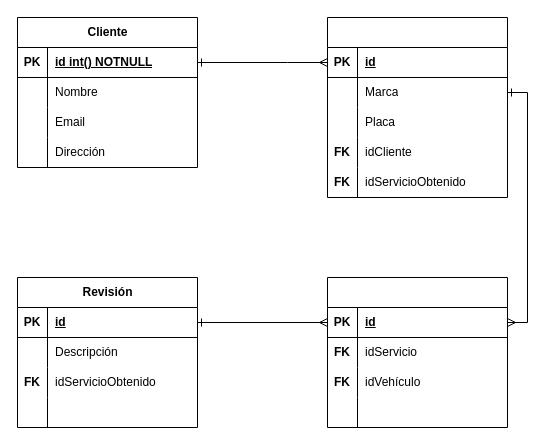
Some shapes in this 554 by 445 pixel diagram are drawn without their labels. Each missing label, with the box of its shape:
ServicioObtenido: (326, 276, 508, 428)
Vehiculo: (326, 16, 508, 198)
